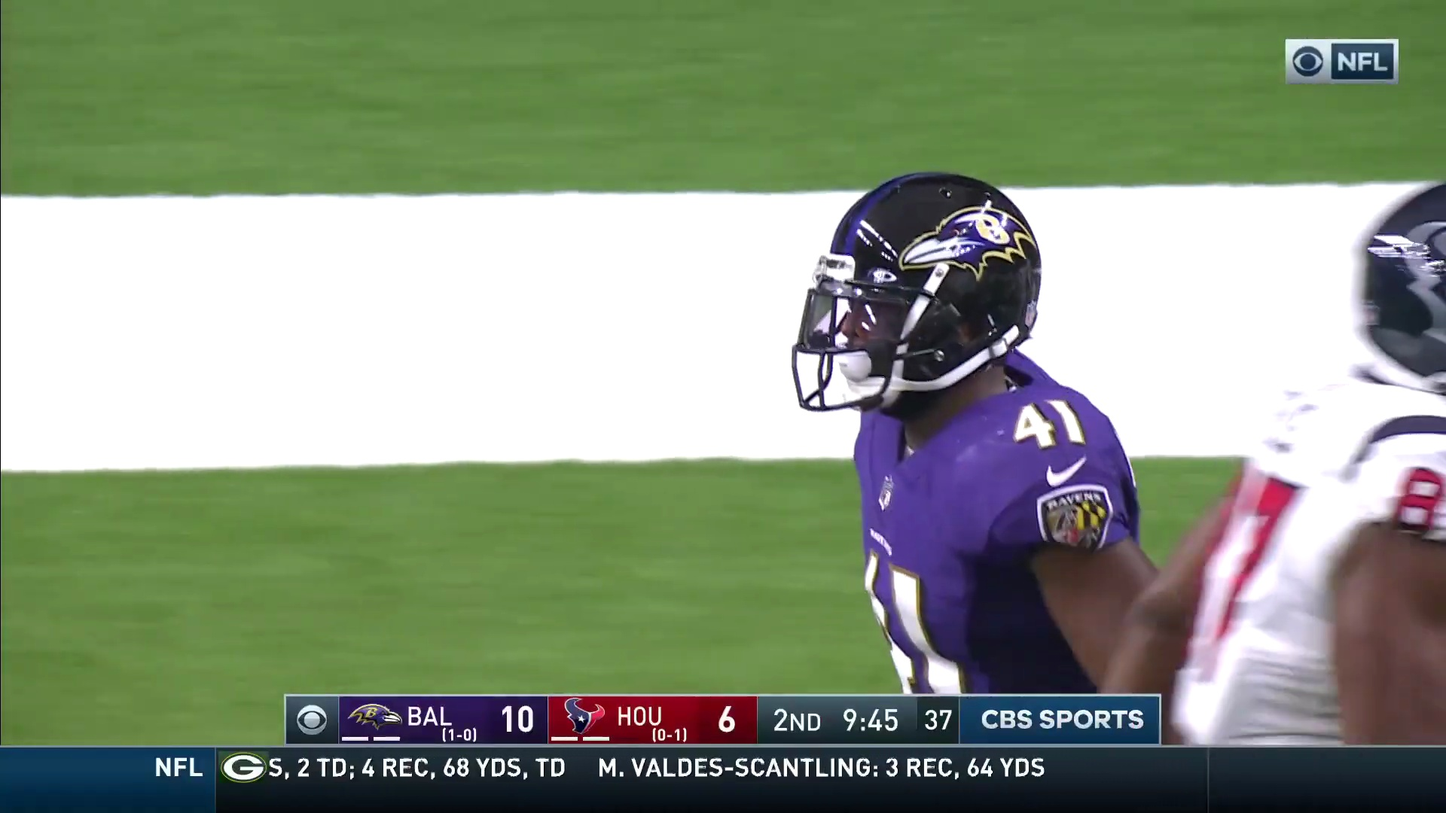Player: (756, 188, 1209, 705), (1279, 192, 1446, 678), (1324, 388, 1446, 743)
